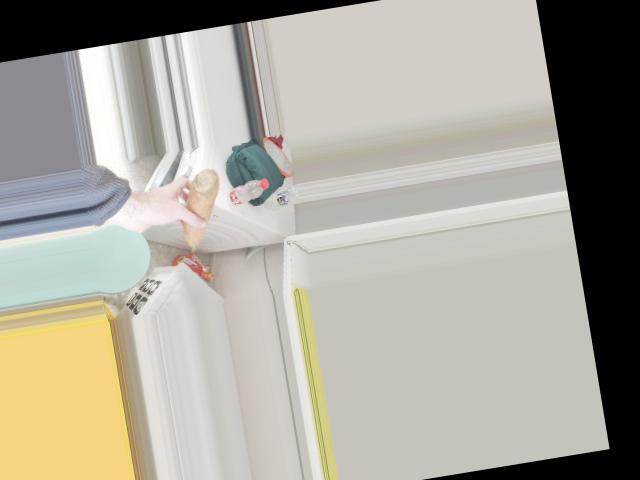sweet_potato: (168, 171, 231, 247)
